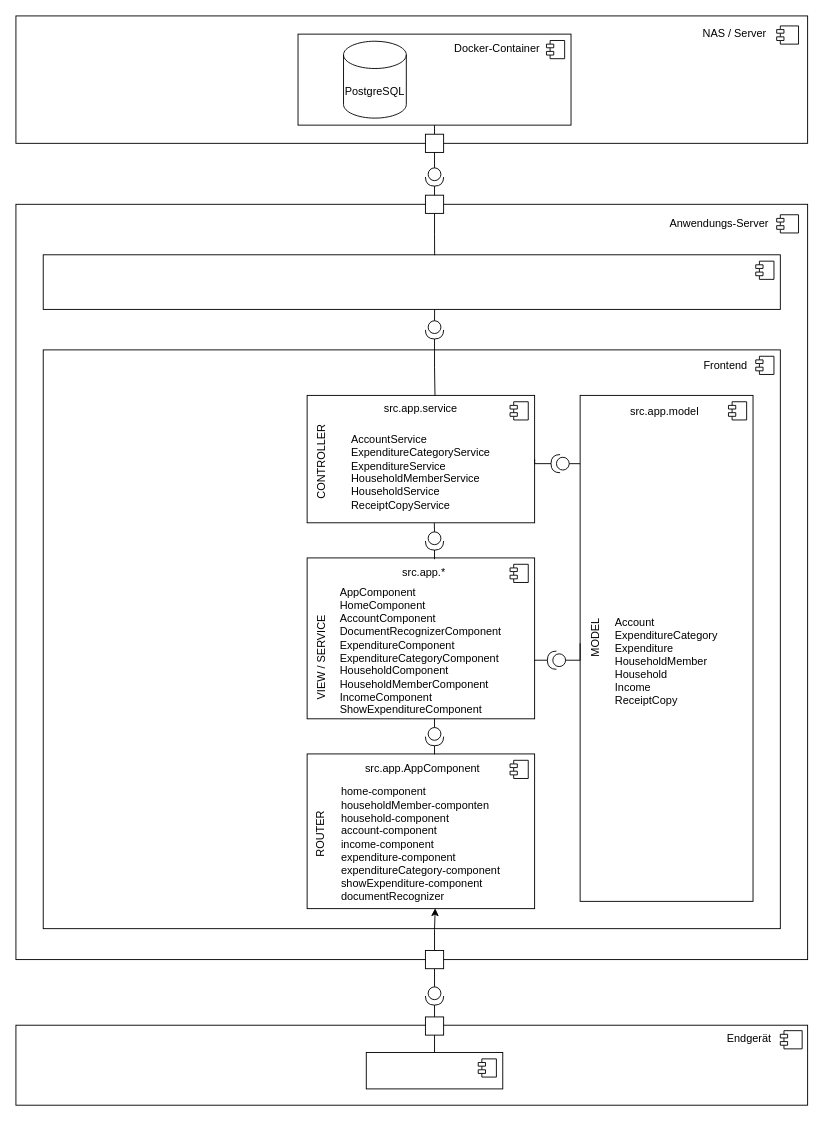
Image size: 824x1128. Some labels were removed from this diagram. The centre of each missing label's shape, as x and y in pixels:
Backend: (x=411, y=281)
Webbrowser: (x=434, y=1070)
